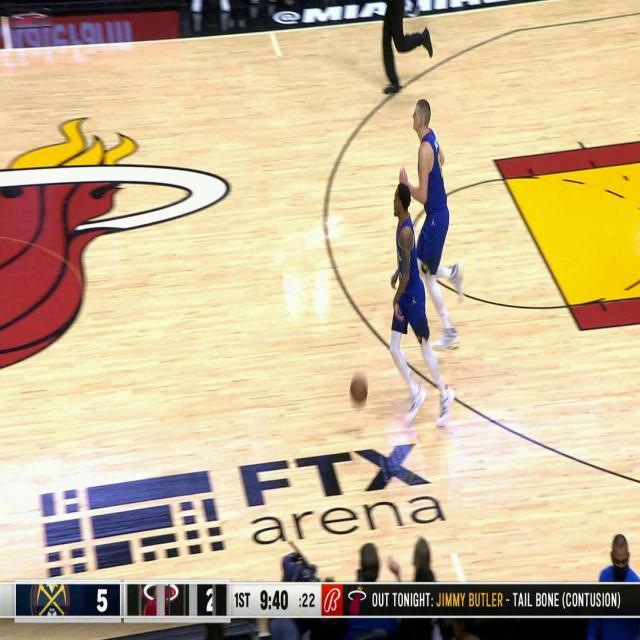rim: (349, 372, 368, 404)
